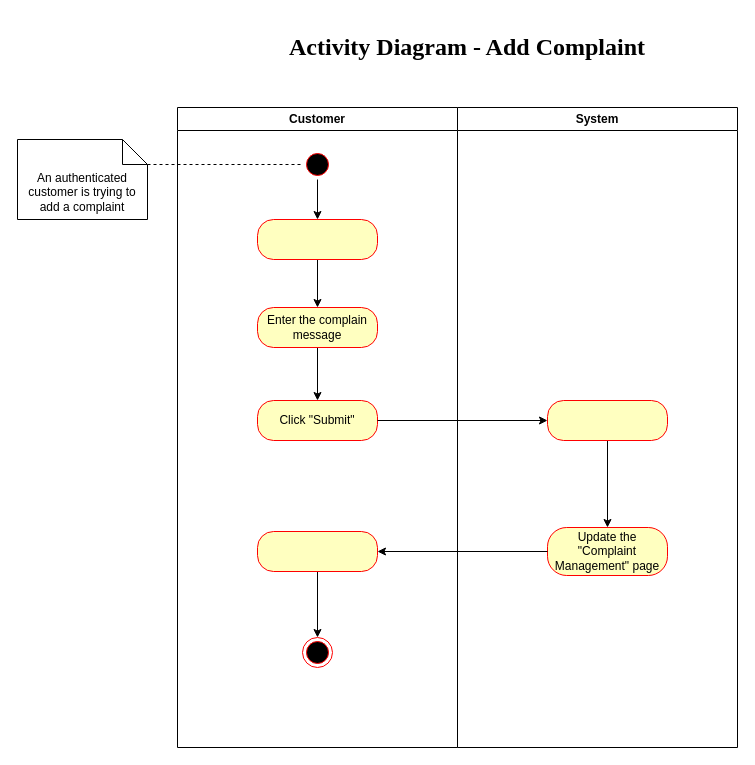
This 755x765 diagram has some shape labels left out. The shapes that lost their labels are listed below. From the top down, each one's centre as x and y in pixels, then its label:
the point at 317,239: Navigate to add complaint section
the point at 607,420: Insert the message to database
the point at 317,551: Receive a success message
